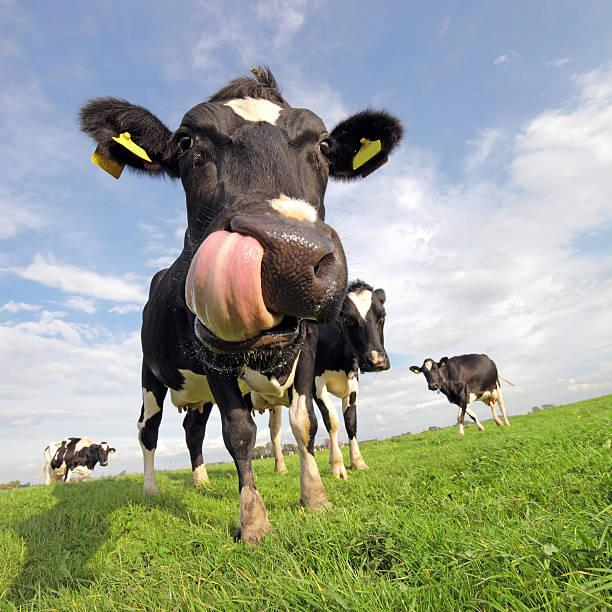muzzles: (167, 205, 358, 401)
